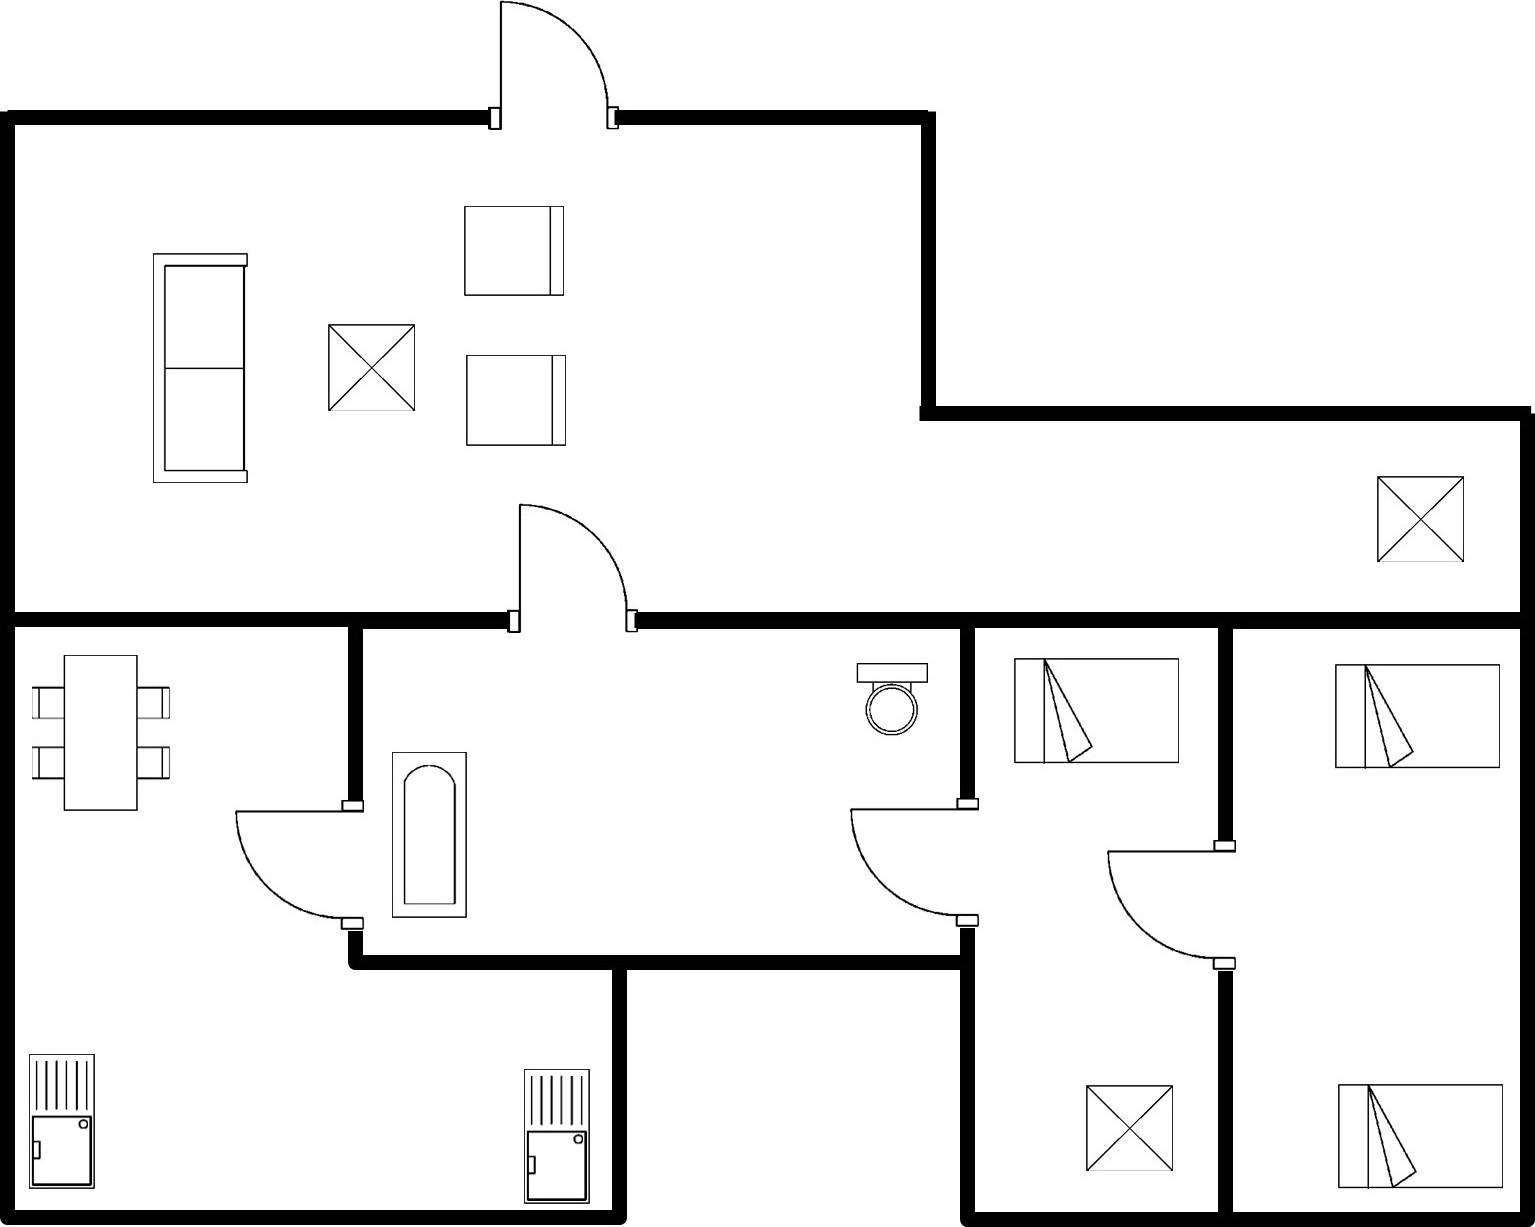bed: (1005, 646, 1189, 771), (1325, 654, 1507, 778), (1328, 1076, 1507, 1196)
dining_table: (26, 644, 180, 819)
sink: (20, 1044, 106, 1199), (511, 1059, 598, 1206)
sofa: (140, 240, 257, 493)
toilet: (848, 654, 933, 742)
tub: (382, 742, 475, 924)
